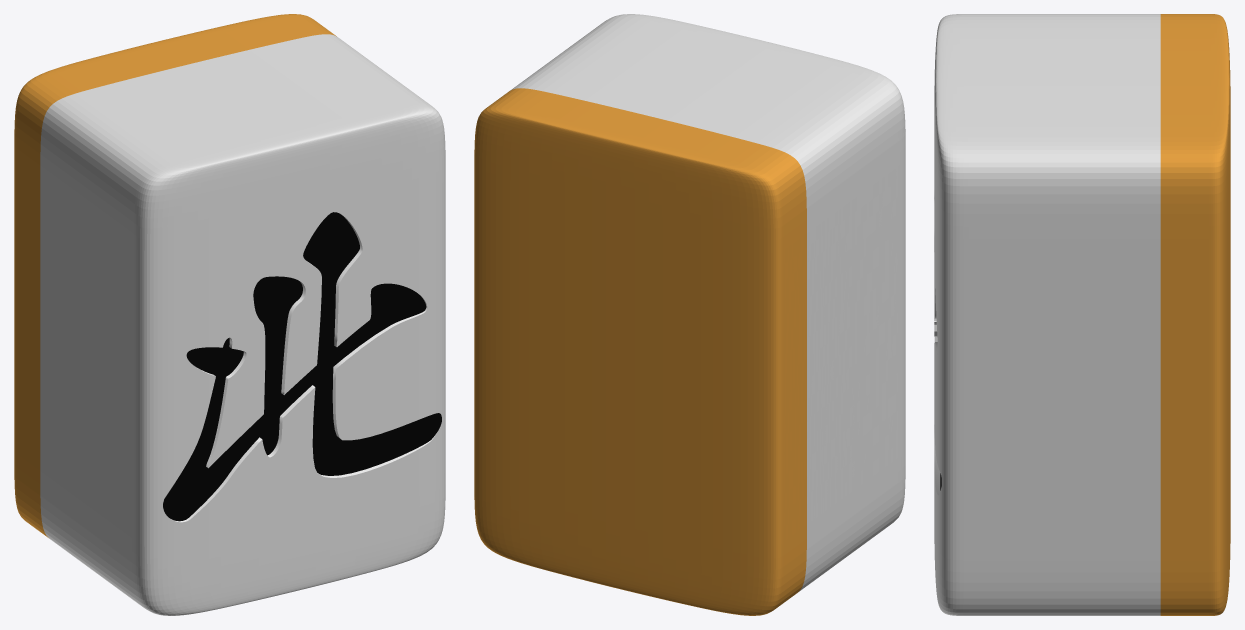
Rendered from Pei.fbx.
3 views of the same model, side by side, from view 1: azimuth 30°, elevation 25°; view 2: azimuth 150°, elevation 25°; view 3: azimuth 270°, elevation 25° (orthographic). The views are drawn at different scales.
Parts seen in each view (by area): view 1: Tile; view 2: Tile; view 3: Tile.
Boxes of the visible parts, x1=… form: Tile: x1=14, y1=14, x2=445, y2=615; Tile: x1=474, y1=14, x2=905, y2=615; Tile: x1=934, y1=14, x2=1230, y2=615.
Bounding box in the file's own units: 2 × 2.8 × 1.59.
